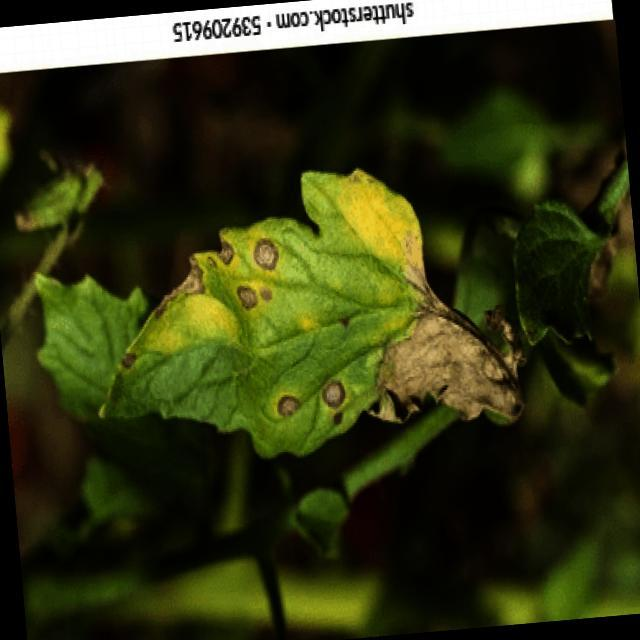Tomato late blight leaf: (78, 150, 522, 482)
